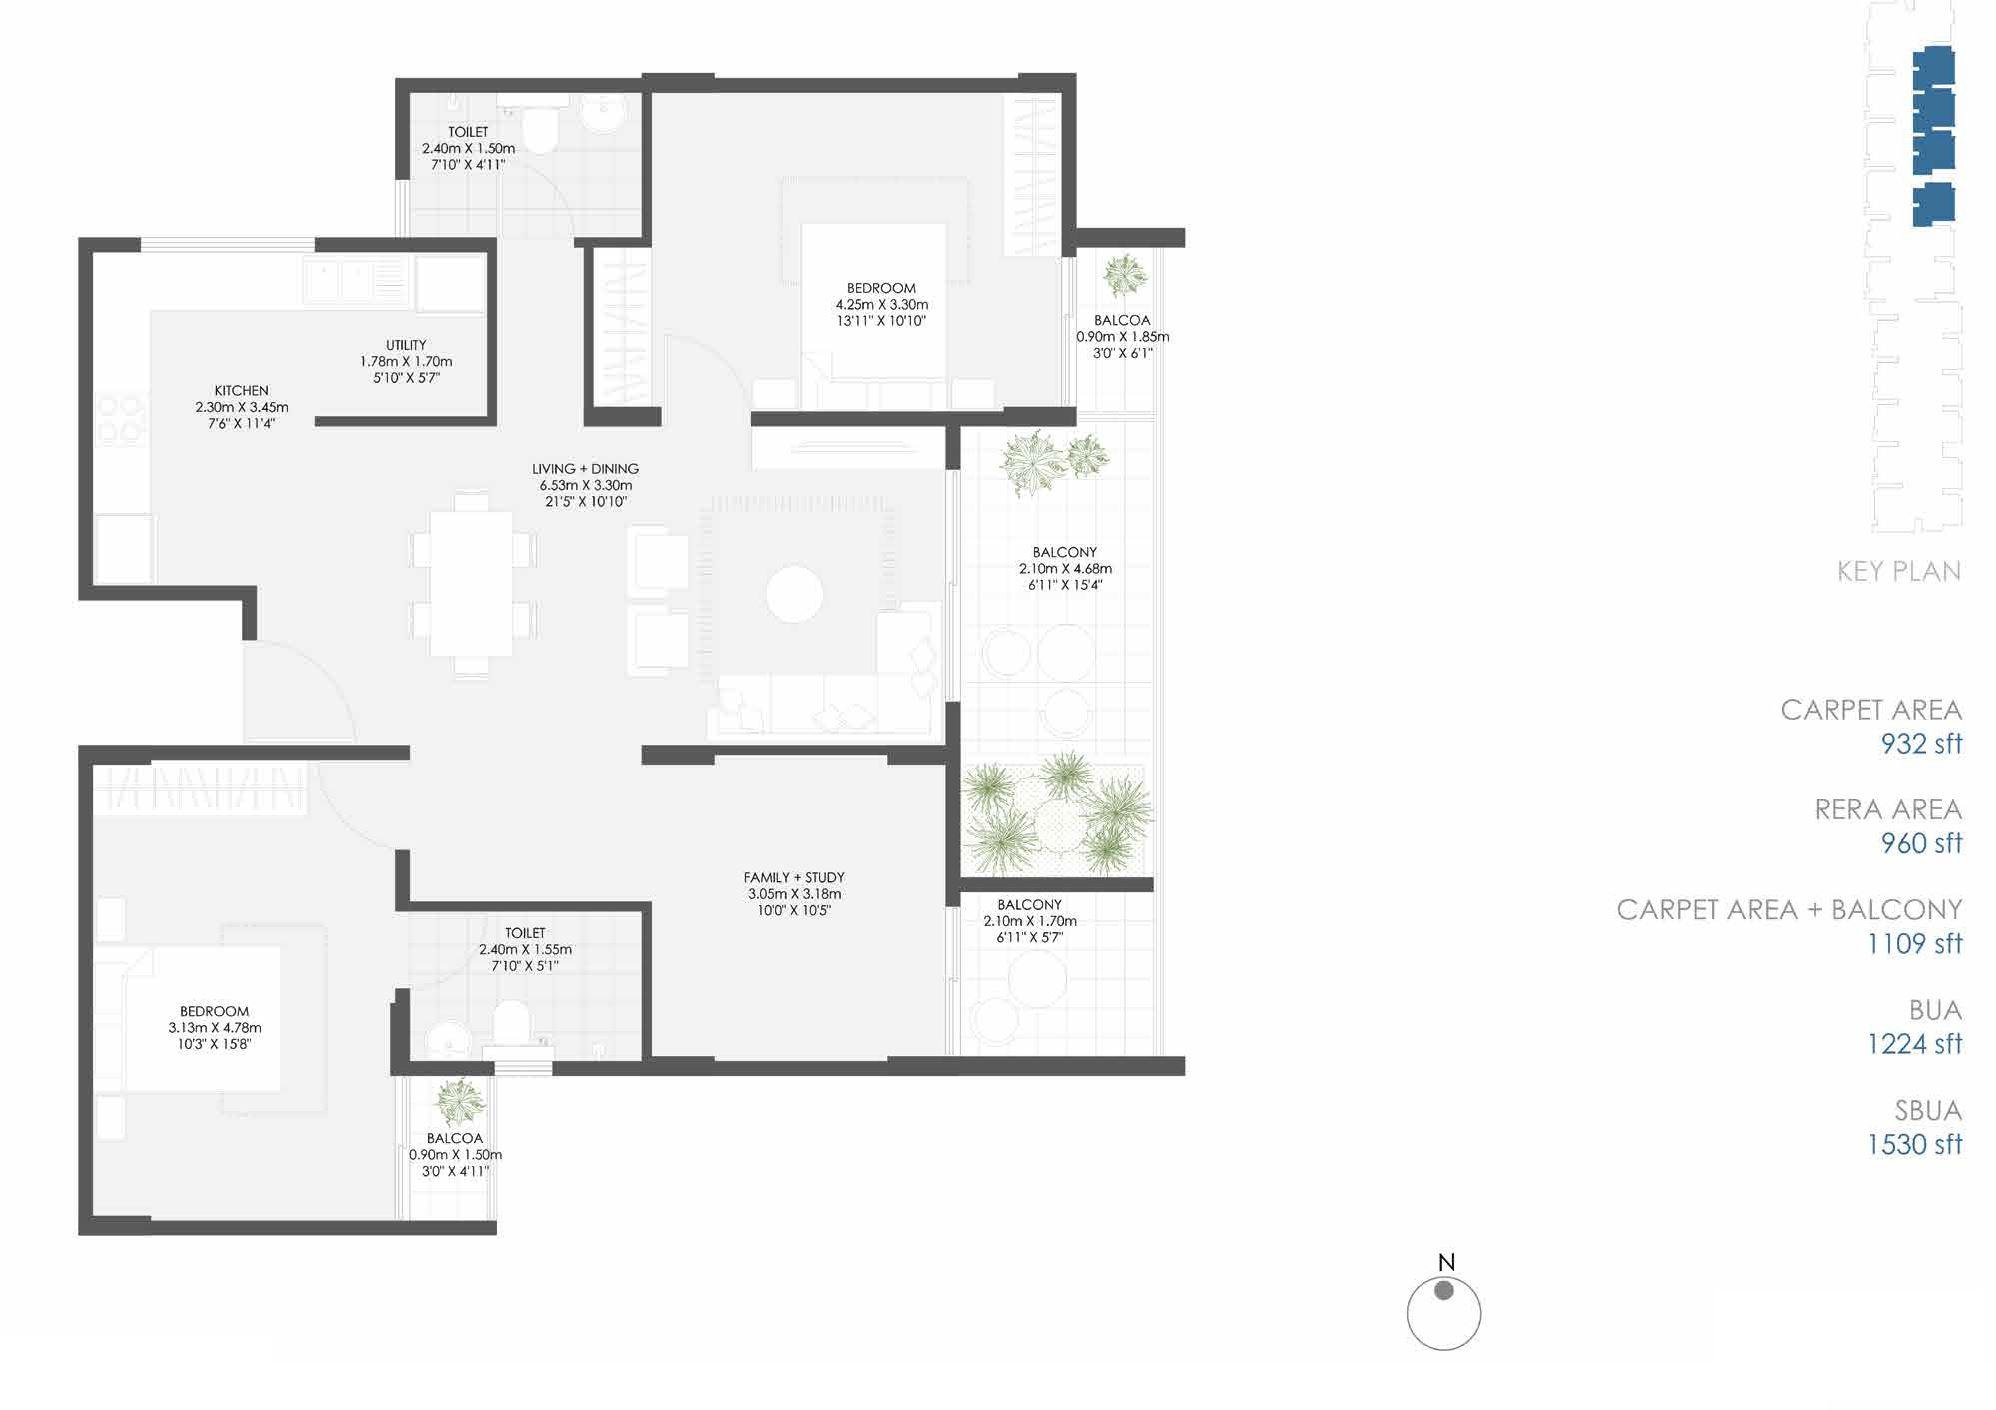Balcony: (954, 423, 1140, 877), (960, 891, 1155, 1050)
Bed: (93, 946, 282, 1094), (804, 230, 949, 409)
Bedroom: (89, 761, 391, 1215), (655, 96, 1058, 406)
Dining Room: (327, 427, 600, 737)
Dining table: (395, 482, 555, 696)
Kitchen: (89, 249, 310, 584)
Living Room: (607, 426, 951, 745)
Sofa: (714, 671, 937, 737), (876, 601, 942, 737), (626, 528, 693, 601), (629, 607, 691, 676)
Wardrobe: (92, 761, 308, 815), (1000, 93, 1062, 256), (591, 249, 655, 407)
balcoa: (1071, 244, 1160, 414), (404, 1074, 501, 1219)
commode: (493, 1000, 537, 1047), (519, 108, 568, 151)
door: (246, 641, 354, 740), (934, 455, 967, 710), (398, 908, 494, 996), (311, 765, 398, 850), (661, 331, 746, 415), (505, 157, 578, 232), (940, 893, 966, 1064)
fridge: (90, 514, 156, 586)
kitchen-slab: (90, 252, 412, 310), (92, 250, 150, 514)
sink: (302, 262, 406, 308), (427, 1019, 472, 1062), (583, 99, 629, 136)
stove: (93, 395, 150, 449)
study: (655, 761, 951, 1054)
toilet: (398, 908, 645, 1068), (401, 92, 641, 237)
tv: (786, 433, 923, 465)
utility: (310, 252, 488, 417)
washing-machine: (410, 252, 485, 313)
